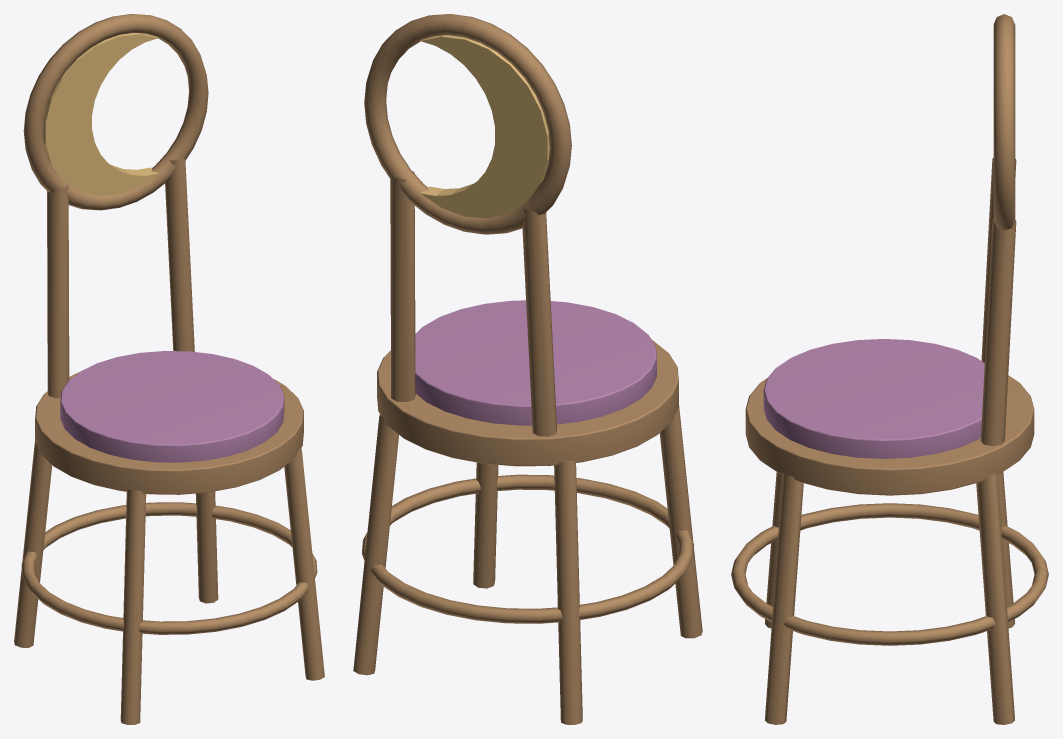
File: Moon_Back_Chair.fbx
The picture shows the model from 3 angles, left to right: view 1: azimuth 30°, elevation 25°; view 2: azimuth 150°, elevation 25°; view 3: azimuth 270°, elevation 25°; orthographic projection. The views are drawn at different scales.
Visible parts, largest first — view 1: Moon_Back_Chair_Mesh; view 2: Moon_Back_Chair_Mesh; view 3: Moon_Back_Chair_Mesh.
Boxes of the visible parts, left/top/right/bottom form: Moon_Back_Chair_Mesh: left=14, top=14, right=324, bottom=724; Moon_Back_Chair_Mesh: left=353, top=14, right=702, bottom=724; Moon_Back_Chair_Mesh: left=731, top=14, right=1048, bottom=724.
Size of the model in its own units: 0.528 by 1.19 by 0.528.
